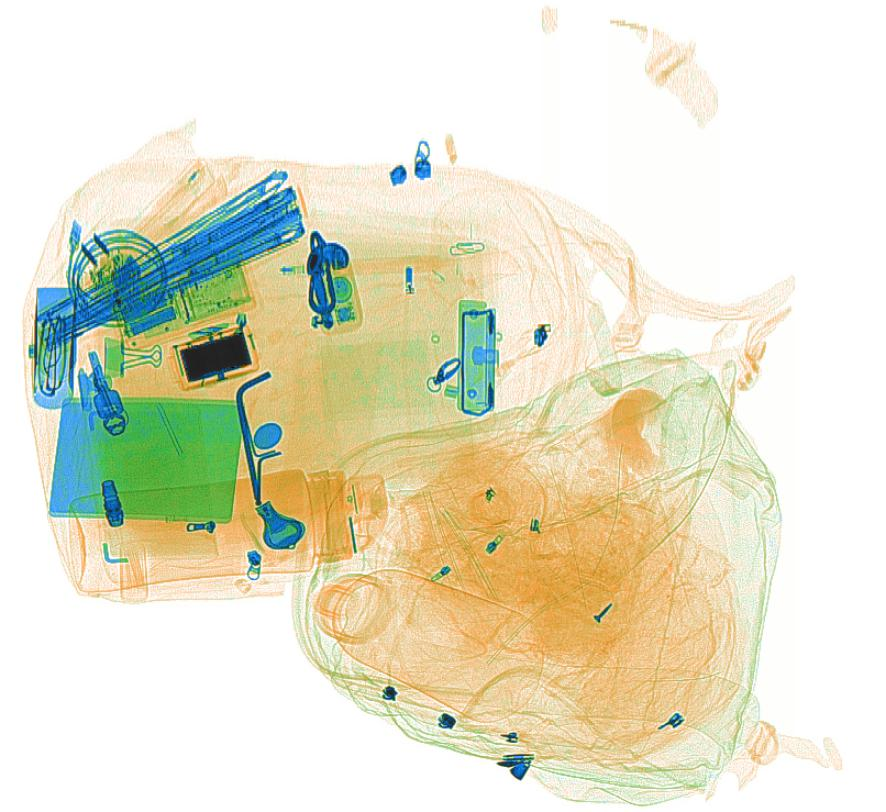battery: (117, 286, 179, 337)
